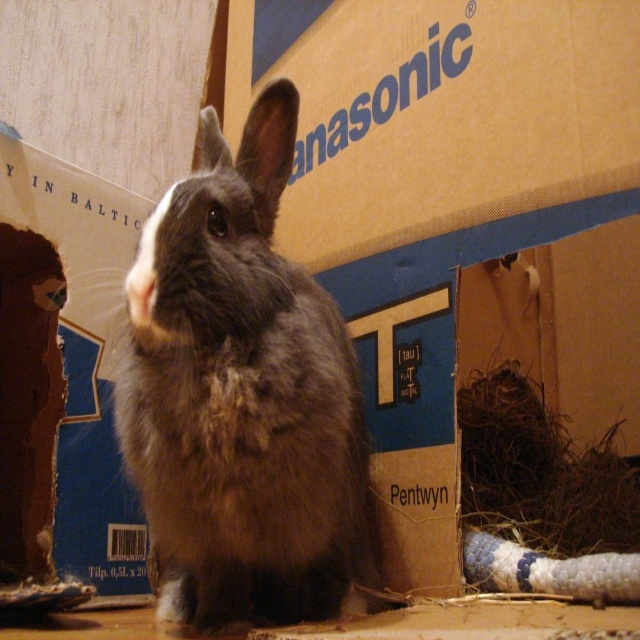Rabbit: (44, 77, 386, 627)
